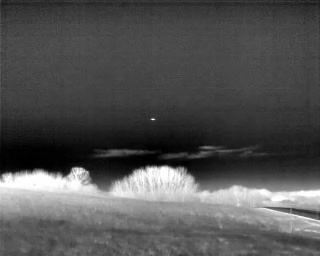AIRPLANE: (149, 116, 157, 122)
